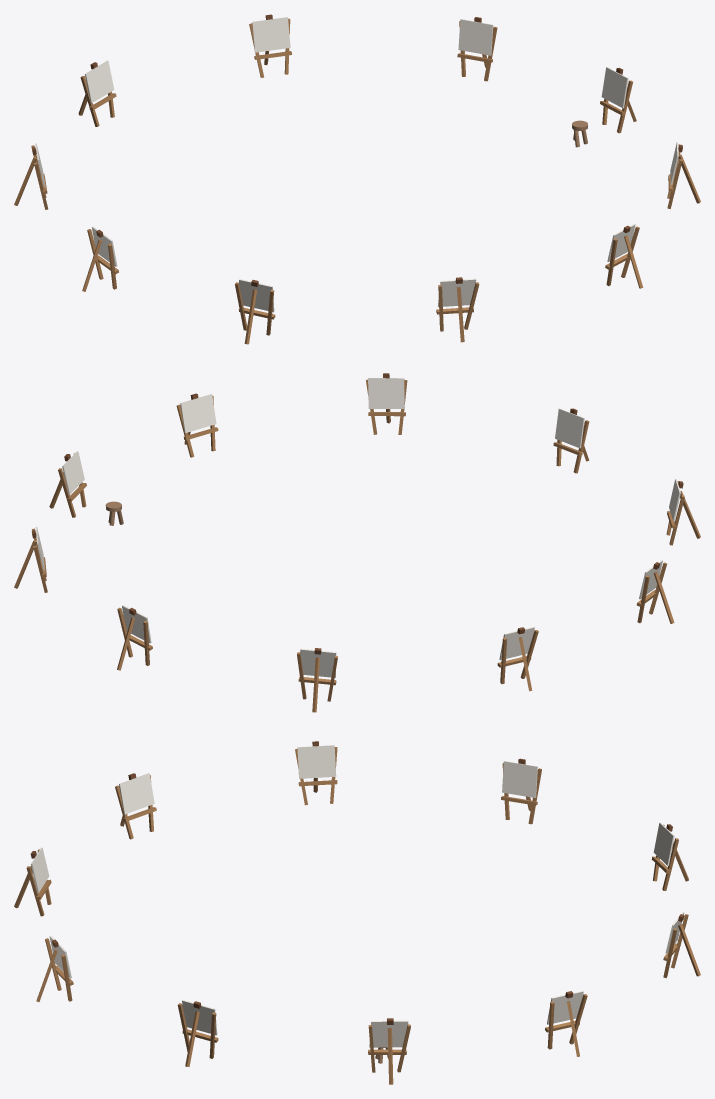
The model's file is atelier_furniture.glb.
The picture shows the model from 3 angles, top to bottom: view 1: azimuth 30°, elevation 25°; view 2: azimuth 150°, elevation 25°; view 3: azimuth 270°, elevation 25°; orthographic projection. The views are drawn at different scales.
Parts seen in each view (by area): view 1: Easel 03 Canvas.004, Easel 03 Canvas.002, Easel 03 Canvas.005, Easel 03 Canvas.009, Easel 03 Canvas.001, Easel 03 Canvas.008; view 2: Easel 03 Canvas.011, Easel 03 Canvas, Easel 03 Canvas.009, Easel 03 Canvas.005, Easel 03 Canvas.006, Easel 03 Canvas.001; view 3: Easel 03 Canvas.007, Easel 03 Canvas.006, Easel 03 Canvas.008, Easel 03 Canvas.001, Easel 03 Canvas, Easel 03 Canvas.002, Easel 03 Canvas.005.
Part boxes in pixels (x1,y1,x2,y2): Easel 03 Canvas.004: (252,17,290,52); Easel 03 Canvas.002: (458,19,493,55); Easel 03 Canvas.005: (84,60,114,103); Easel 03 Canvas.009: (438,278,476,306); Easel 03 Canvas.001: (601,67,628,108); Easel 03 Canvas.008: (239,279,274,312); Easel 03 Canvas.011: (368,378,404,408); Easel 03 Canvas: (180,394,216,432); Easel 03 Canvas.009: (555,408,584,448); Easel 03 Canvas.005: (300,648,336,677); Easel 03 Canvas.006: (499,626,534,660); Easel 03 Canvas.001: (62,451,84,494); Easel 03 Canvas.007: (297,745,336,778); Easel 03 Canvas.006: (502,761,537,797); Easel 03 Canvas.008: (119,773,154,814); Easel 03 Canvas.001: (369,1020,408,1047); Easel 03 Canvas: (182,1000,217,1035); Easel 03 Canvas.002: (547,990,583,1024); Easel 03 Canvas.005: (653,822,674,865).
Bounding box in the file's own units: 21.73 × 2.19 × 21.4.
